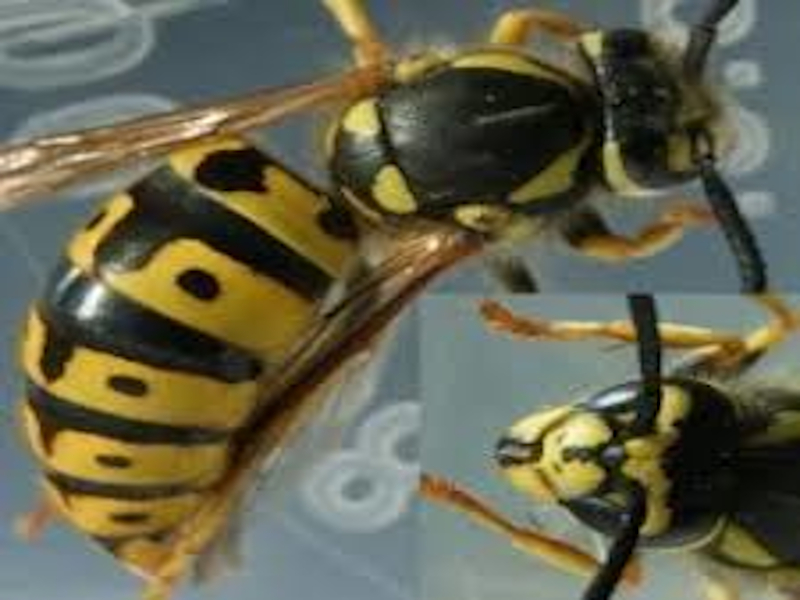chax: (37, 25, 767, 324), (484, 288, 800, 577)
